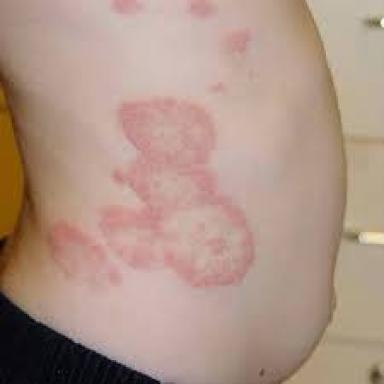Tinea-Corporis: (52, 96, 253, 287)
